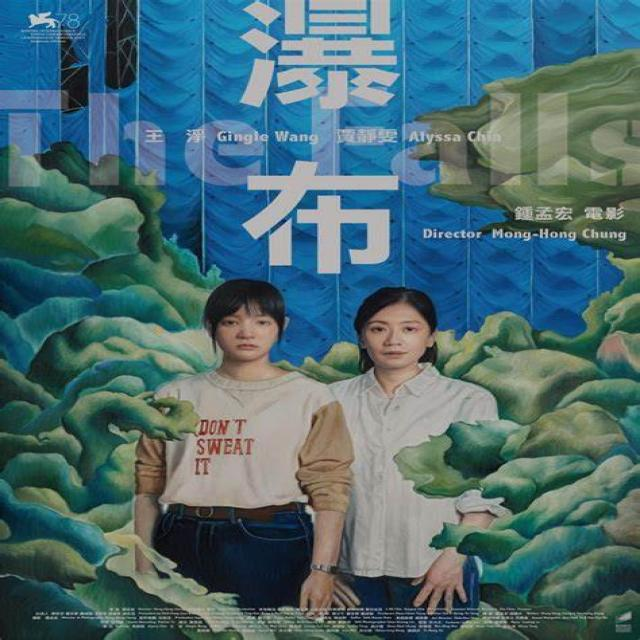stand: (302, 278, 514, 627), (136, 263, 320, 633)
